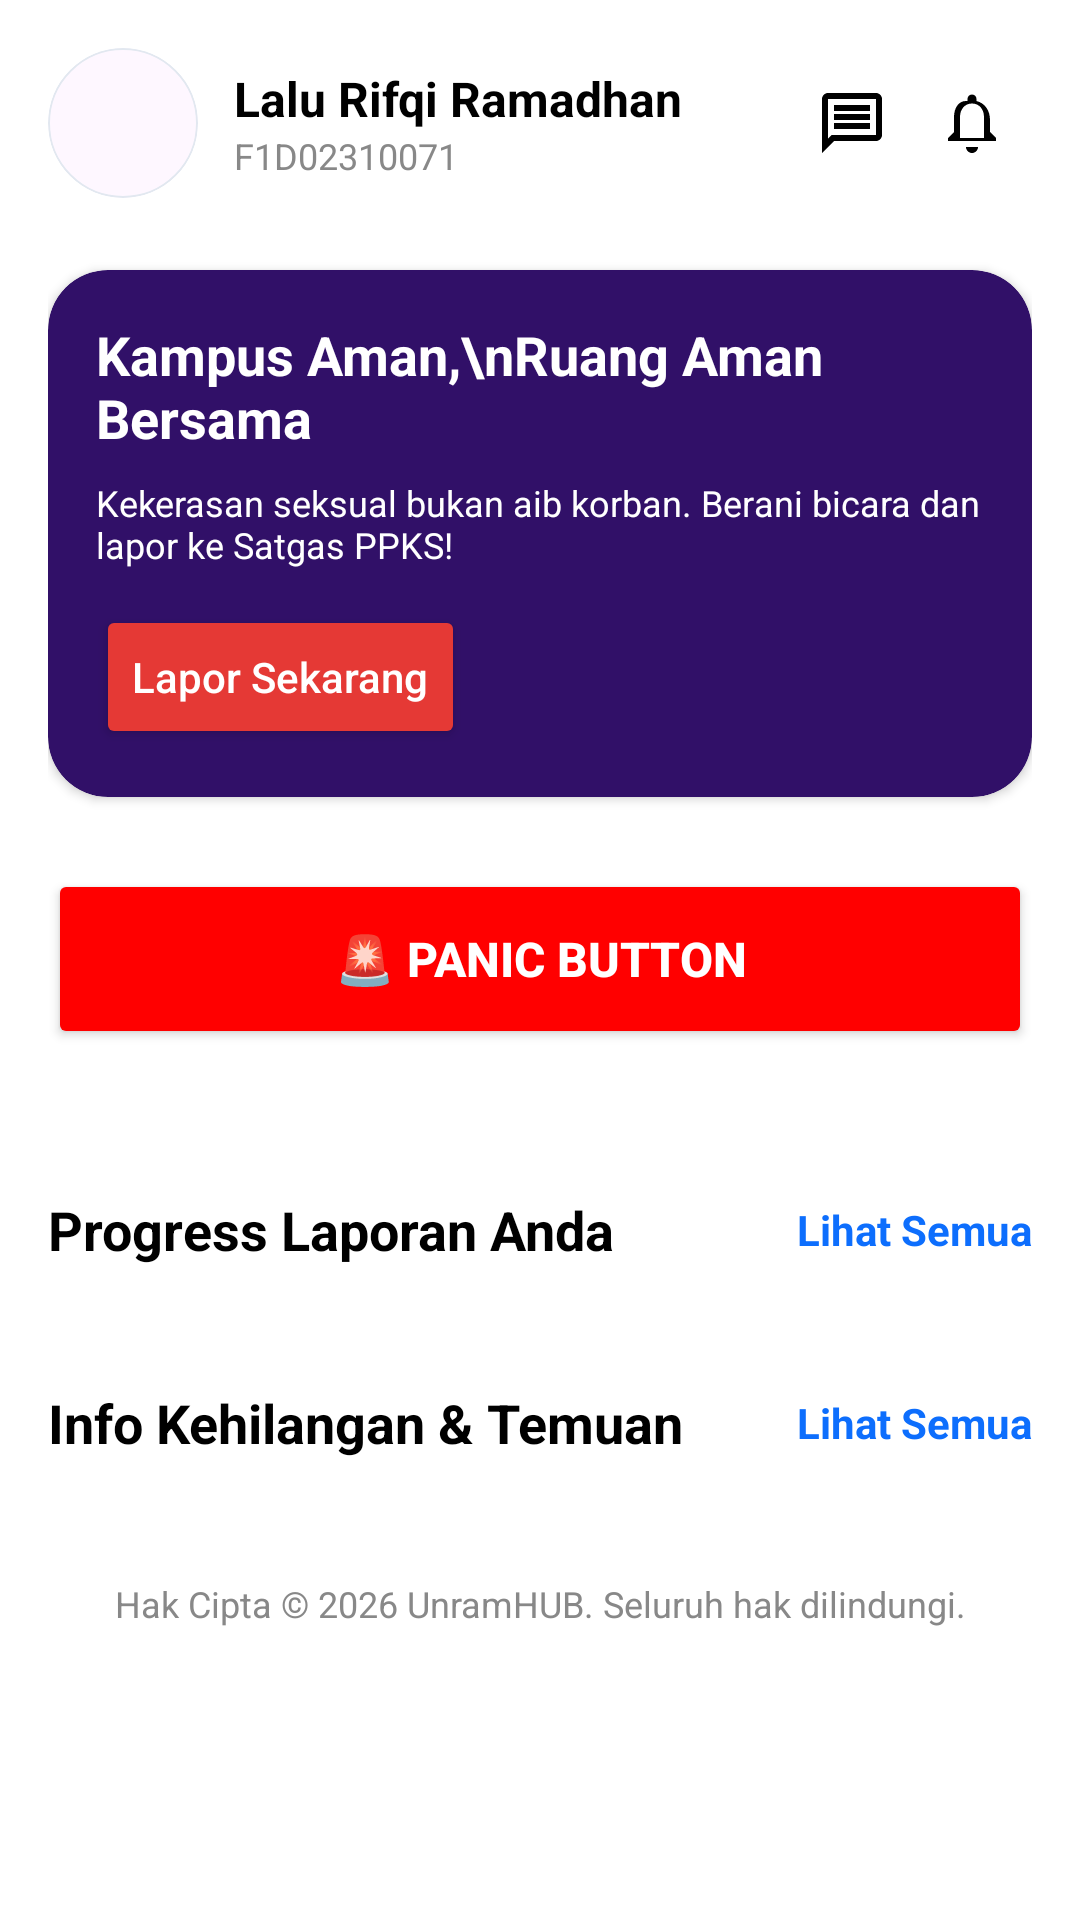

Locate icon controls on the screen. Image size 1080w x 1920h, boxes as (x1, y1, x2, y2).
chat: (822, 93, 882, 153)
notifications: (948, 94, 996, 153)
